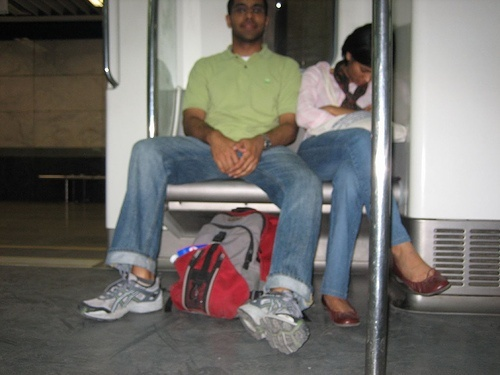head: (338, 23, 372, 89), (225, 1, 270, 44)
person: (91, 0, 341, 340), (287, 24, 455, 314)
